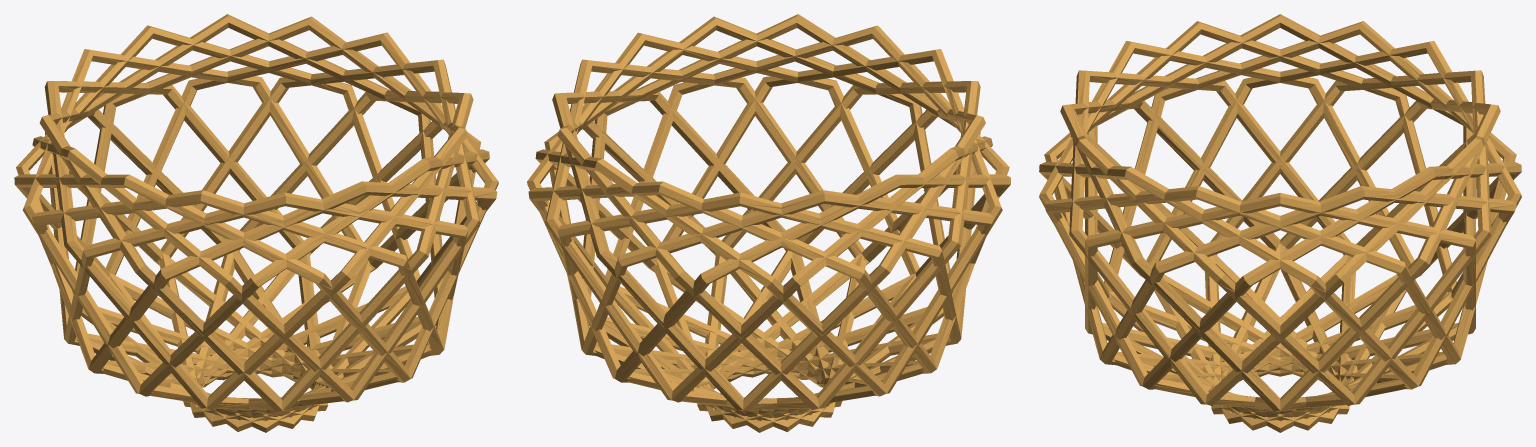
The model's file is bowl_2.glb.
The picture shows the model from 3 angles, left to right: view 1: azimuth 30°, elevation 25°; view 2: azimuth 150°, elevation 25°; view 3: azimuth 270°, elevation 25°; orthographic projection.
Visible parts, largest first — view 1: Mesh_Mesh_head_geo.001_lambert2SG.001; view 2: Mesh_Mesh_head_geo.001_lambert2SG.001; view 3: Mesh_Mesh_head_geo.001_lambert2SG.001.
Boxes of the visible parts, x1,y1,x2,y2 form: Mesh_Mesh_head_geo.001_lambert2SG.001: (14,14,498,432); Mesh_Mesh_head_geo.001_lambert2SG.001: (527,14,1010,432); Mesh_Mesh_head_geo.001_lambert2SG.001: (1039,14,1521,432).
Size of the model in its own units: 1.04 by 0.721 by 1.05.
